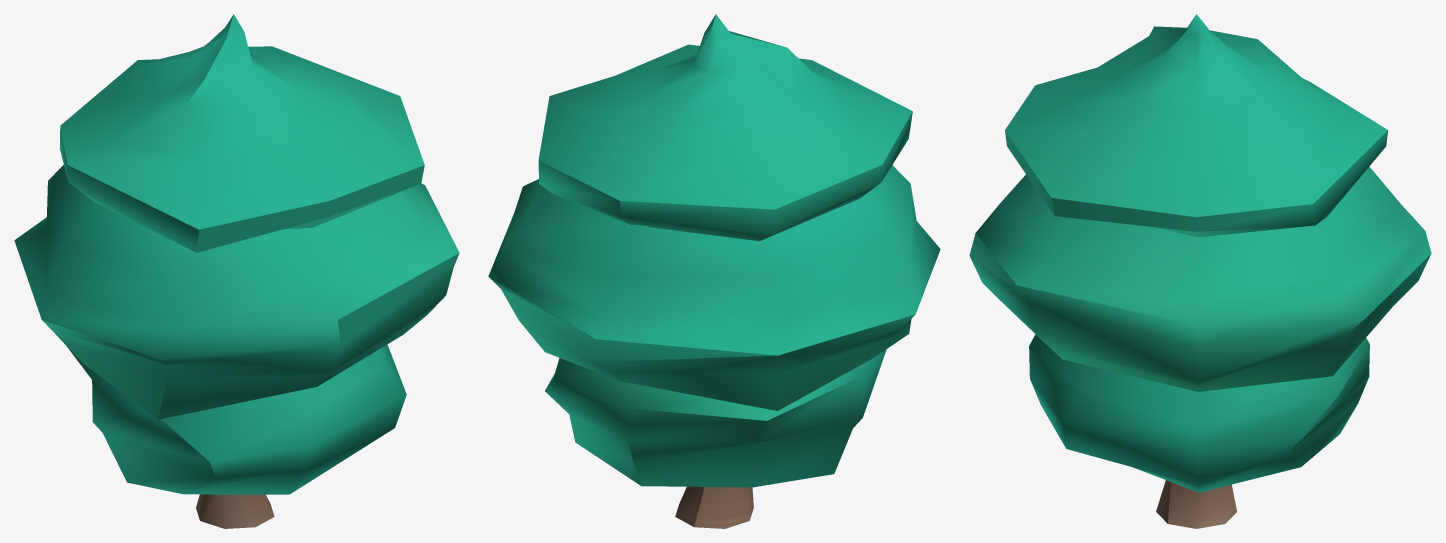
The model's file is tree2.fbx.
3 views of the same model, side by side, from view 1: azimuth 30°, elevation 25°; view 2: azimuth 150°, elevation 25°; view 3: azimuth 270°, elevation 25° (orthographic).
Visible parts, largest first — view 1: tree5; view 2: tree5; view 3: tree5.
Boxes of the visible parts, x1,y1,x2,y2 form: tree5: [14, 14, 459, 528]; tree5: [488, 14, 940, 528]; tree5: [969, 14, 1431, 528].
Bounding box in the file's own units: 262 × 318 × 268.
